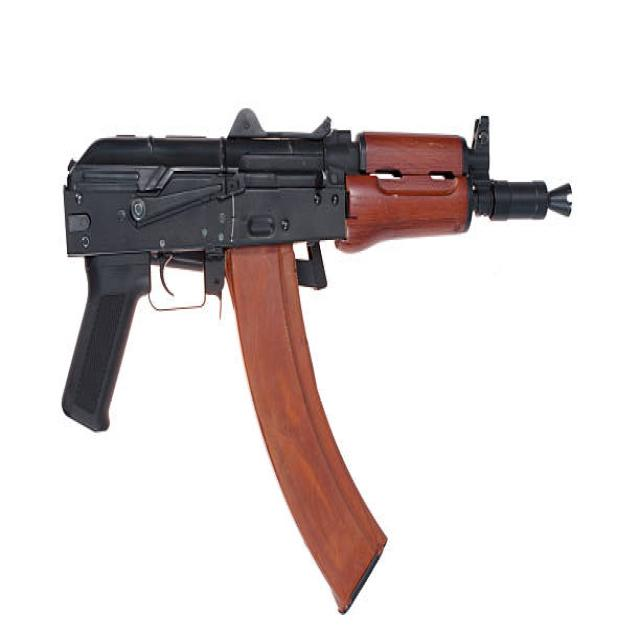rifle: (45, 88, 580, 623)
